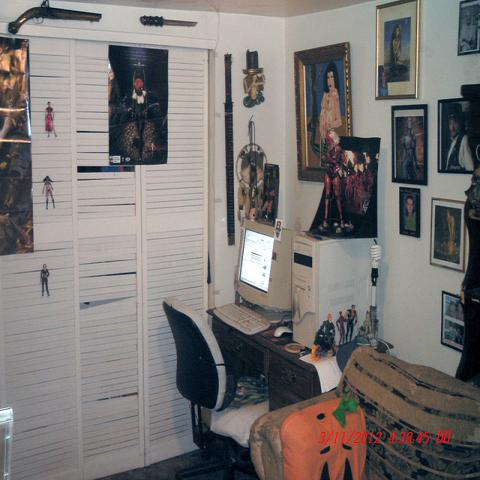motorcycle: (310, 331, 338, 364)
